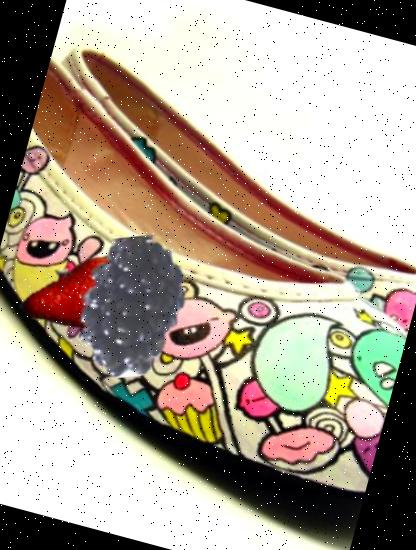Mulberry: (46, 222, 216, 392)
Strawberry: (17, 228, 163, 374)
